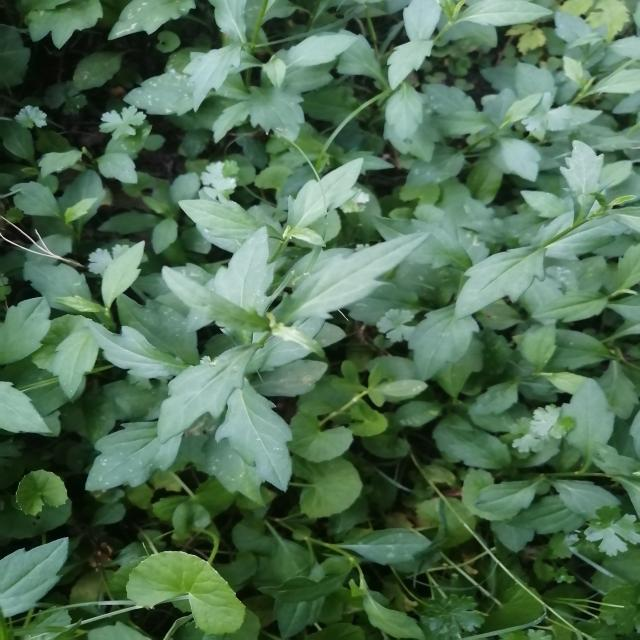Indian aster: (92, 187, 436, 473)
